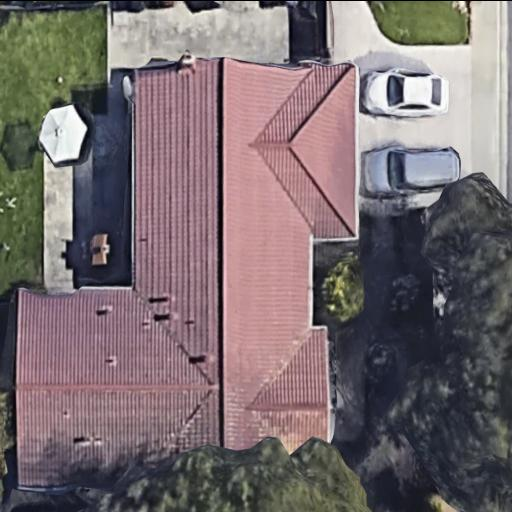TreeShading-Slope-Roof: (17, 59, 360, 484)
